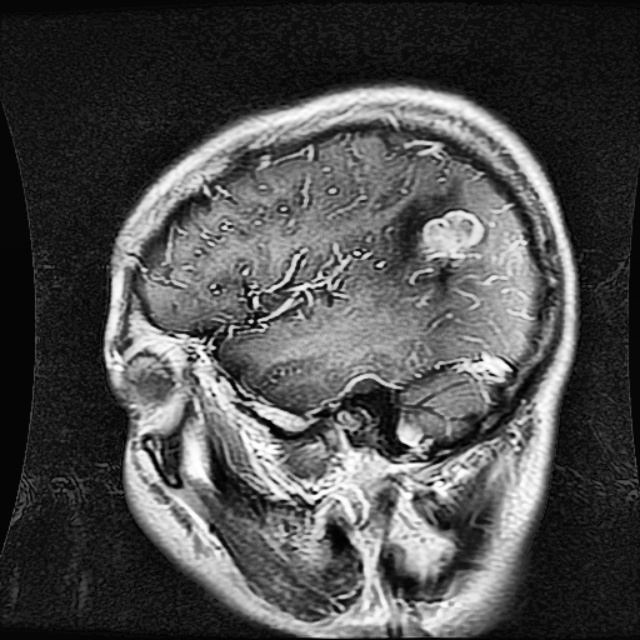Meningioma: (419, 209, 485, 259)
